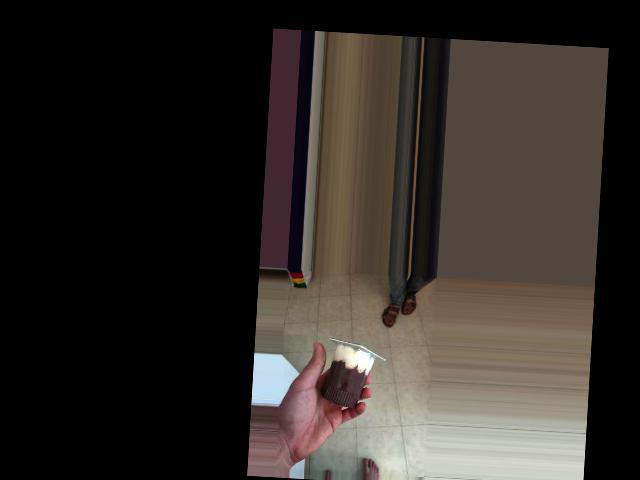milky: (319, 335, 381, 414)
